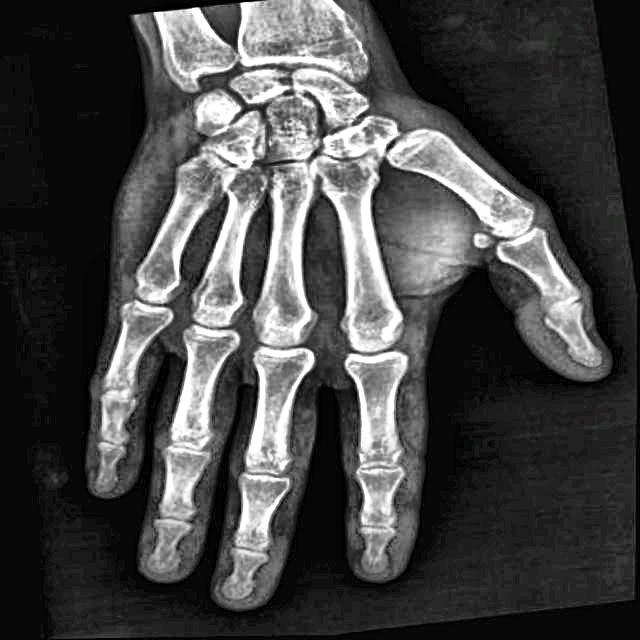Healthy: (53, 40, 582, 554)
